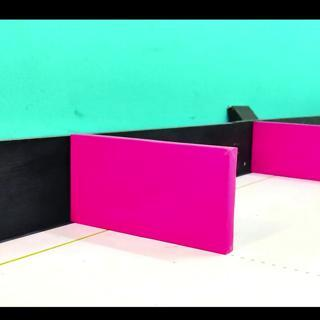xparking: (78, 153, 230, 249), (261, 125, 315, 178)
